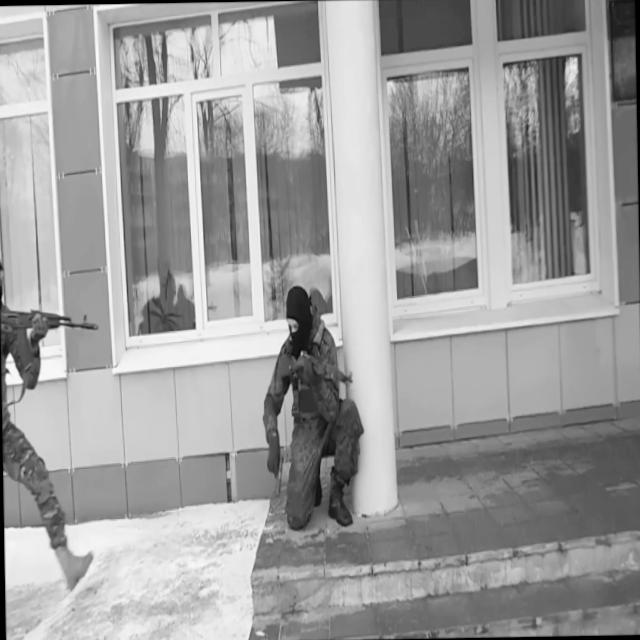gun: (0, 304, 102, 374), (279, 346, 353, 388), (264, 450, 286, 498)
person: (260, 282, 366, 534)
person with a gun: (0, 256, 106, 597), (260, 282, 366, 535)
